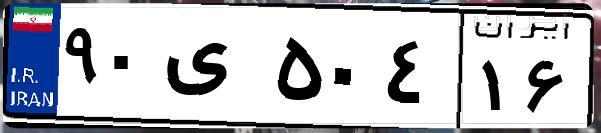0: (330, 28, 385, 110), (110, 28, 158, 98)
1: (475, 38, 525, 113)
4: (385, 28, 445, 110)
5: (270, 28, 330, 110)
6: (525, 38, 570, 115)
9: (57, 26, 110, 100)
ی: (158, 20, 270, 120)
